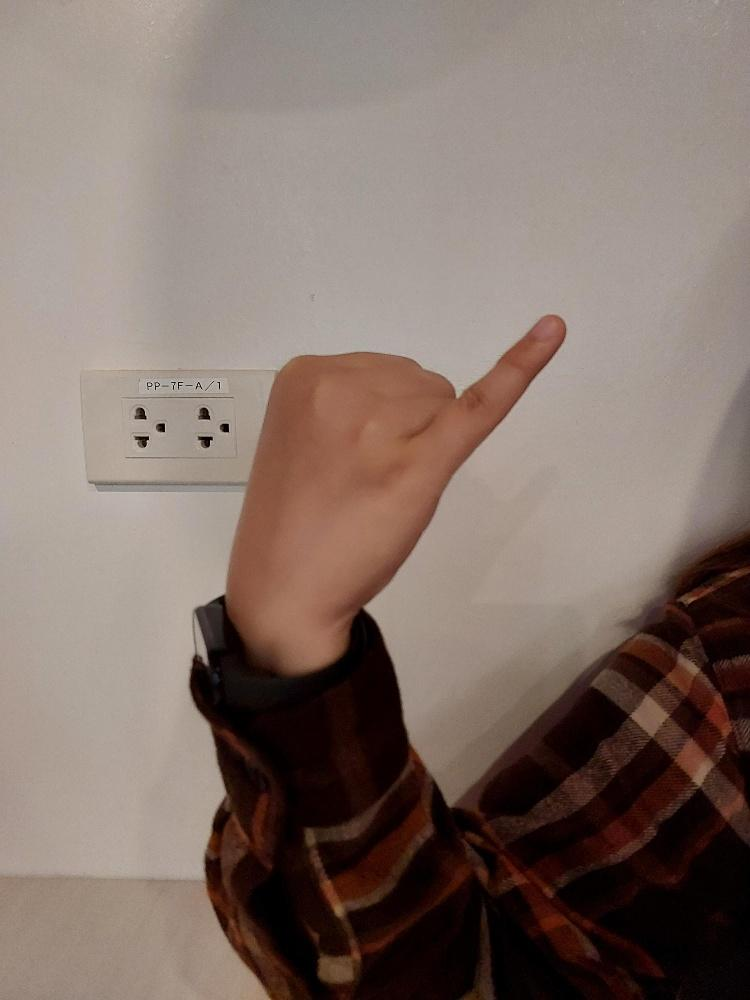j: (220, 309, 570, 644)
